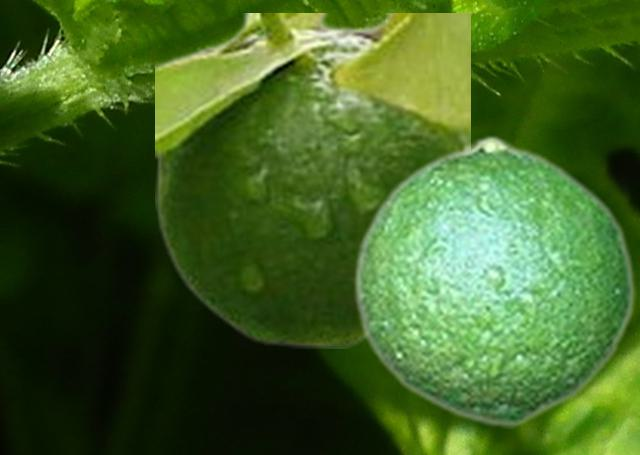dalandan: (155, 13, 469, 347), (351, 134, 635, 427)
